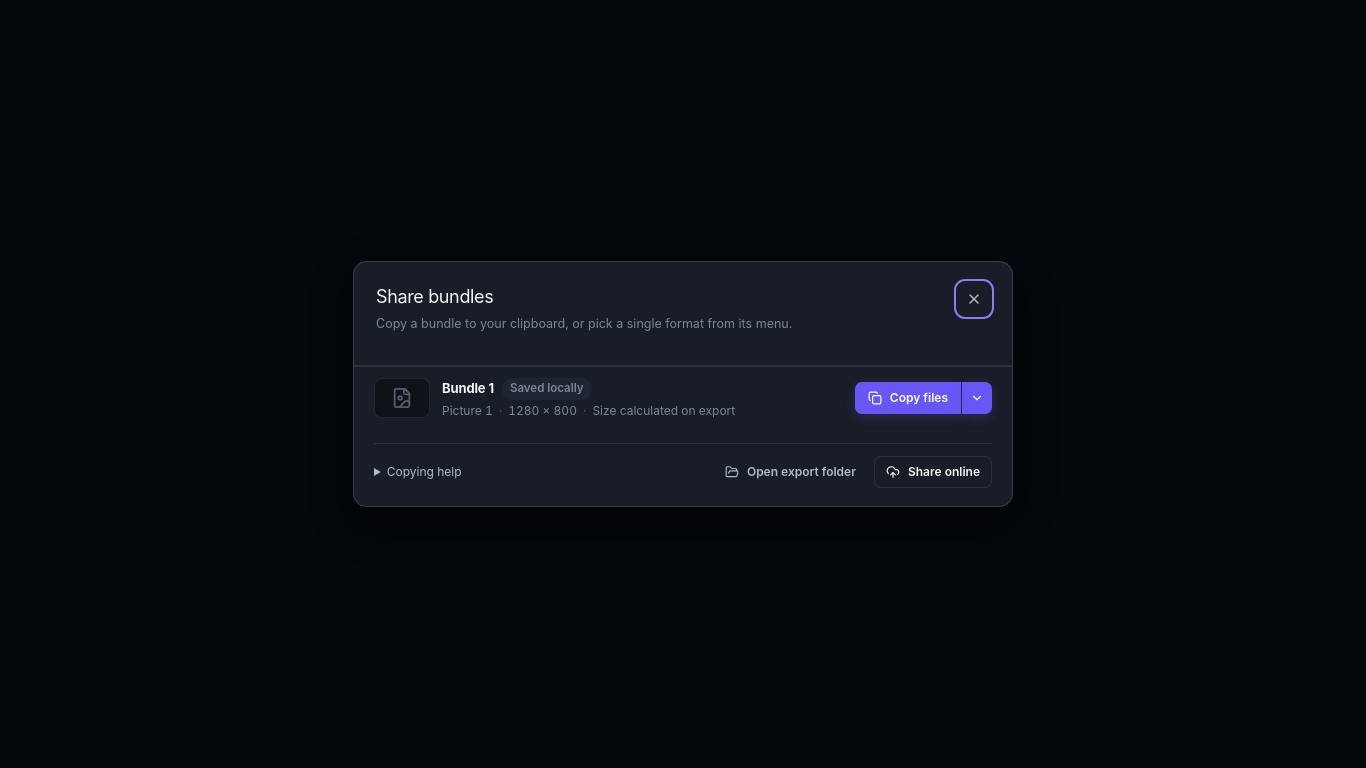
Test: preserves copy preference failure and current action (committed: false)
What coordinates should you click on to do the following:
click the button named "Copy options"
I would click on:
 (977, 398)
Its box is [962, 382, 992, 414].
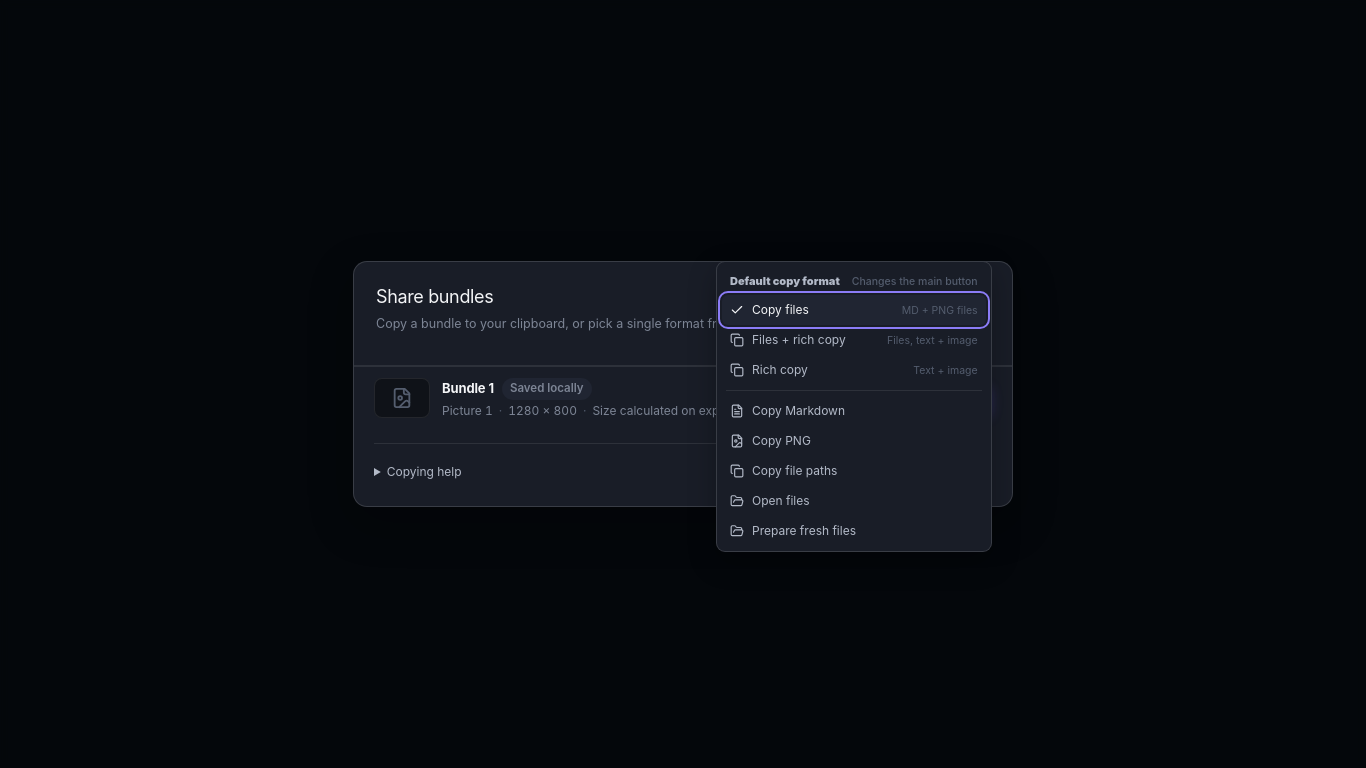
What coordinates should you click on to do the following:
click the menu item "Rich copy Text + image"
I would click on:
 (780, 369)
Its box is [722, 355, 986, 385].
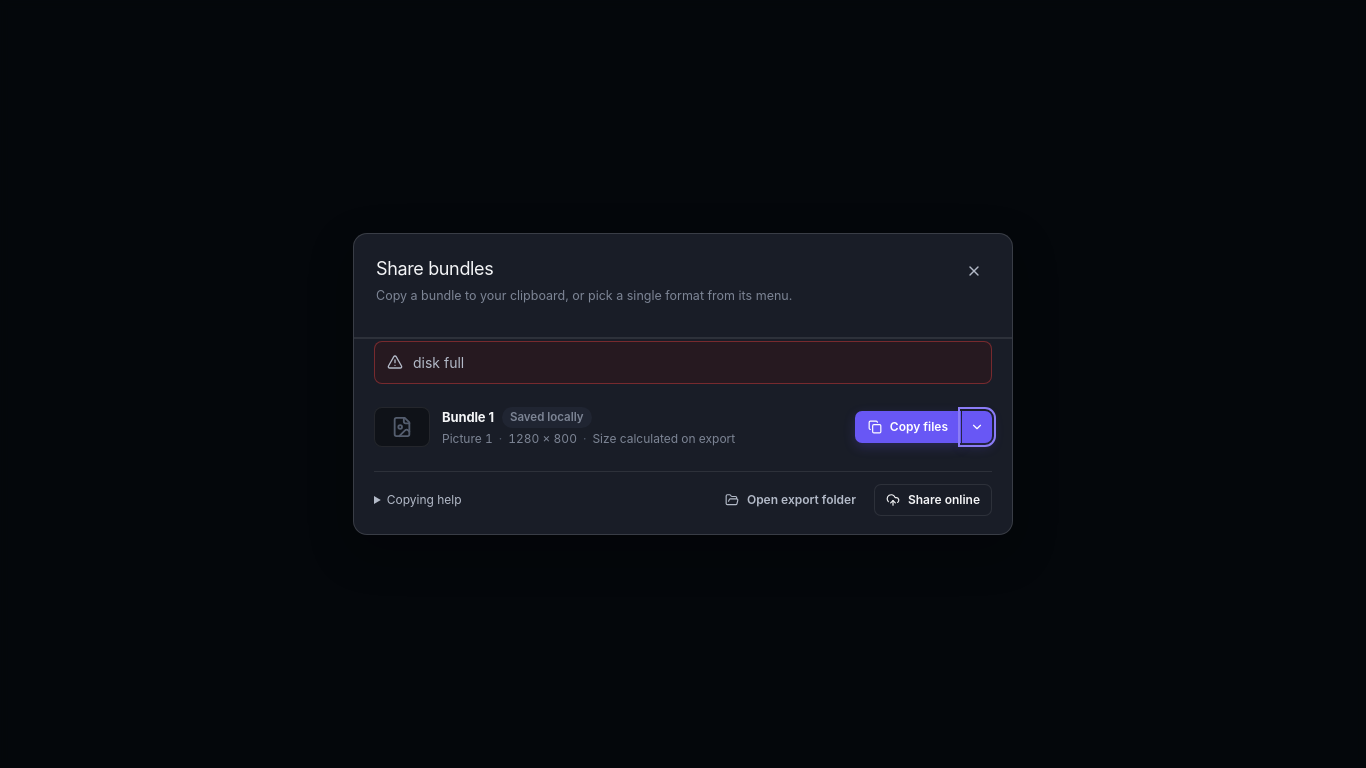
Expected: the button "Copy files" is enabled, [855, 411, 961, 443]
Now the message reads "disk full", box [413, 354, 464, 371]
